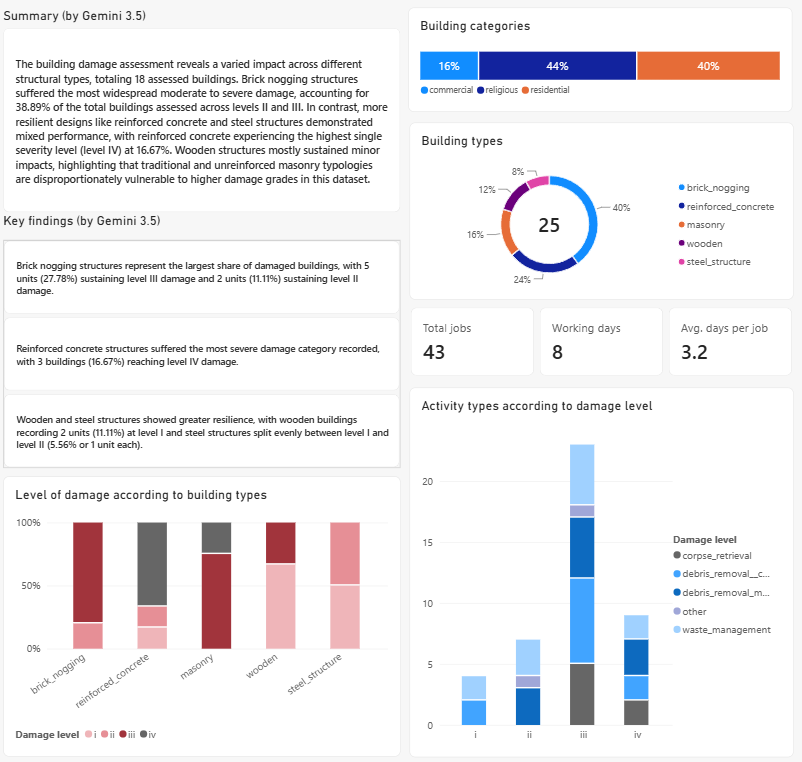

The dashboard page shown, as its layout file describes it:
{"tool":"powerbi","page":{"name":"Page 1","canvas":[1920,1080],"ordinal":0},"visuals":[{"type":"donutChart","title":"Building types","fields":{"Category":["dataset.type"],"Y":["CountNonNull(dataset.type)"]},"box":[582.9,171.4,535.7,247.1],"z":0},{"type":"cardVisual","title":"Key findings (by Gemini 3.5)","fields":{"Data":["Min(llm_building_damage_summary.finding_1)","Min(llm_building_damage_summary.finding_2)","Min(llm_building_damage_summary.finding_3)"]},"box":[15.7,295.7,554.3,357.1],"z":1000},{"type":"cardVisual","title":"Summary (by Gemini 3.5)","fields":{"Data":["Min(llm_building_damage_summary.summary)"]},"box":[15.7,10,554.3,285.7],"z":2000},{"type":"hundredPercentStackedColumnChart","title":"Level of damage according to building types","fields":{"Category":["dataset.type"],"Series":["dataset.lvl_damage"],"Y":["CountNonNull(dataset.type)"]},"box":[15.7,664.3,554.3,391.4],"z":3000},{"type":"hundredPercentStackedBarChart","title":"Building categories","fields":{"Series":["dataset.category"],"Y":["CountNonNull(dataset.category)"]},"box":[581.7,10,535.7,145.7],"z":4000},{"type":"columnChart","title":"Activity types according to damage level","fields":{"Category":["activity_long.lvl_damage"],"Series":["activity_long.activity"],"Y":["CountNonNull(activity_long.activity)"]},"box":[582.9,540,535.7,515.7],"z":5000},{"type":"cardVisual","fields":{"Data":["CountNonNull(activity_long.activity)","Count(activity_long.start_dt)","Avg(activity_long.duration)"]},"box":[584.3,428.6,534.3,95.7],"z":5001}]}

Visuals, with their boxes on the page's 1920x1080 design canvas (x1, y1, x2, y2). These are canvas units, not pixel positions in the 802x762 screenshot, which may show the page scaled, cropped or inside an application window:
"Building types" donutChart: x1=583 y1=171 x2=1119 y2=418
"Key findings (by Gemini 3.5)" cardVisual: x1=16 y1=296 x2=570 y2=653
"Summary (by Gemini 3.5)" cardVisual: x1=16 y1=10 x2=570 y2=296
"Level of damage according to building types" hundredPercentStackedColumnChart: x1=16 y1=664 x2=570 y2=1056
"Building categories" hundredPercentStackedBarChart: x1=582 y1=10 x2=1117 y2=156
"Activity types according to damage level" columnChart: x1=583 y1=540 x2=1119 y2=1056
cardVisual - CountNonNull(activity_long.activity) x Count(activity_long.start_dt): x1=584 y1=429 x2=1119 y2=524
